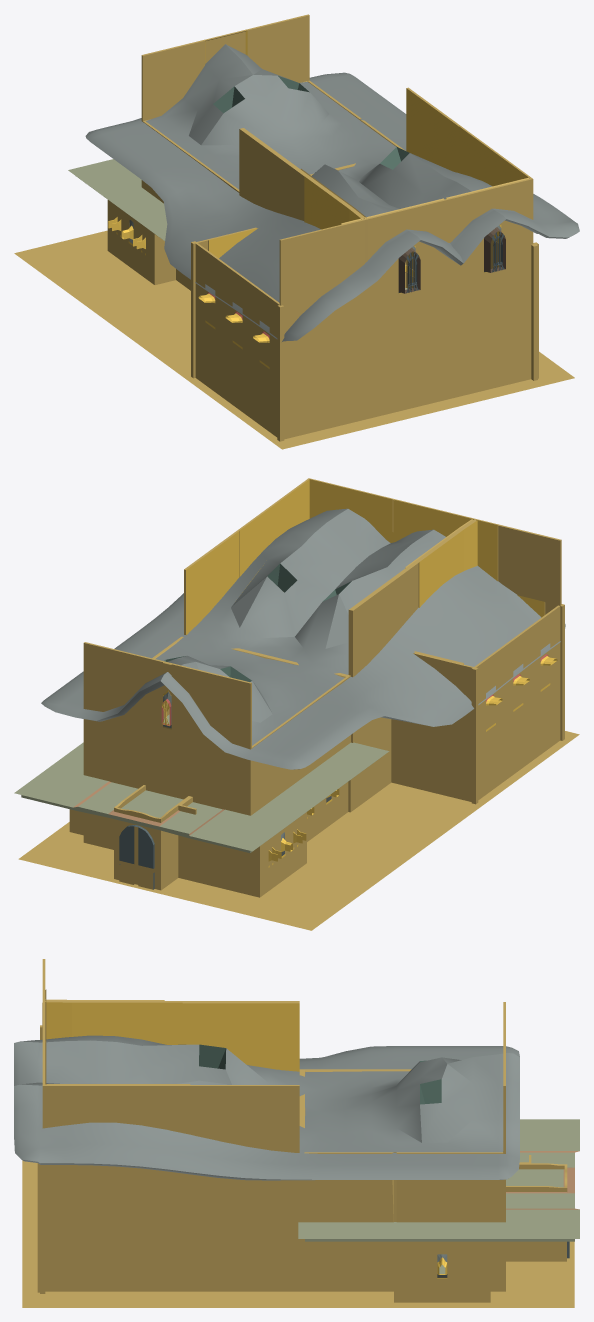
Rendered from Temple Level inside.fbx.
3 views of the same model, one above another, from view 1: azimuth 30°, elevation 25°; view 2: azimuth 150°, elevation 25°; view 3: azimuth 270°, elevation 25° (orthographic). The views are drawn at different scales.
Visible parts, largest first — view 1: Floor and walls, Roof, Top floor; view 2: Floor and walls, Roof, Top floor; view 3: Floor and walls, Roof, Top floor.
Part boxes in pixels (x1,y1,x2,y2): Floor and walls: (14, 14, 574, 449); Roof: (85, 44, 579, 341); Top floor: (68, 159, 167, 240); Floor and walls: (18, 478, 579, 930); Roof: (41, 508, 565, 769); Top floor: (14, 714, 389, 852); Floor and walls: (22, 959, 574, 1307); Roof: (14, 1035, 519, 1180); Top floor: (298, 1119, 579, 1241).
Size of the model in its own units: 7103 by 4559 by 11116.
